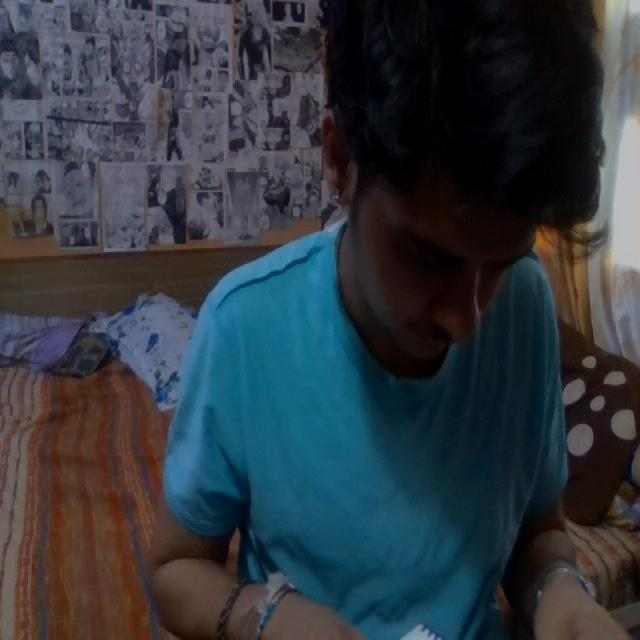focused: (153, 2, 627, 640)
